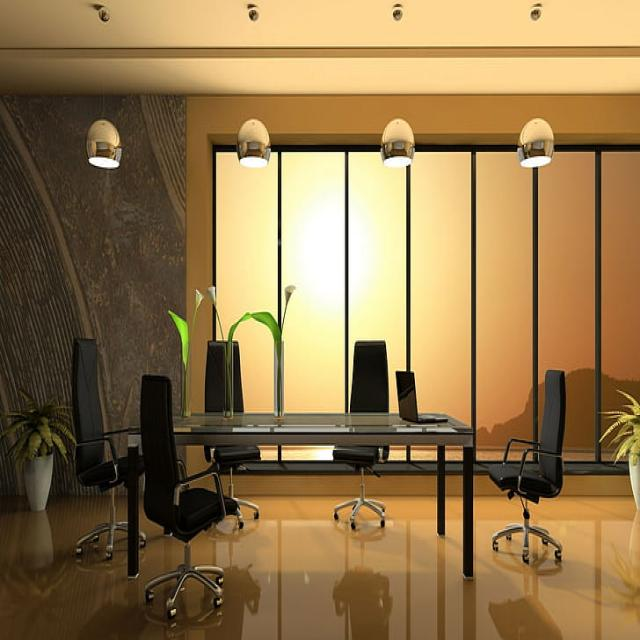chair: (139, 373, 241, 619), (71, 336, 146, 560), (488, 368, 566, 562), (332, 339, 390, 529), (203, 339, 261, 529)
